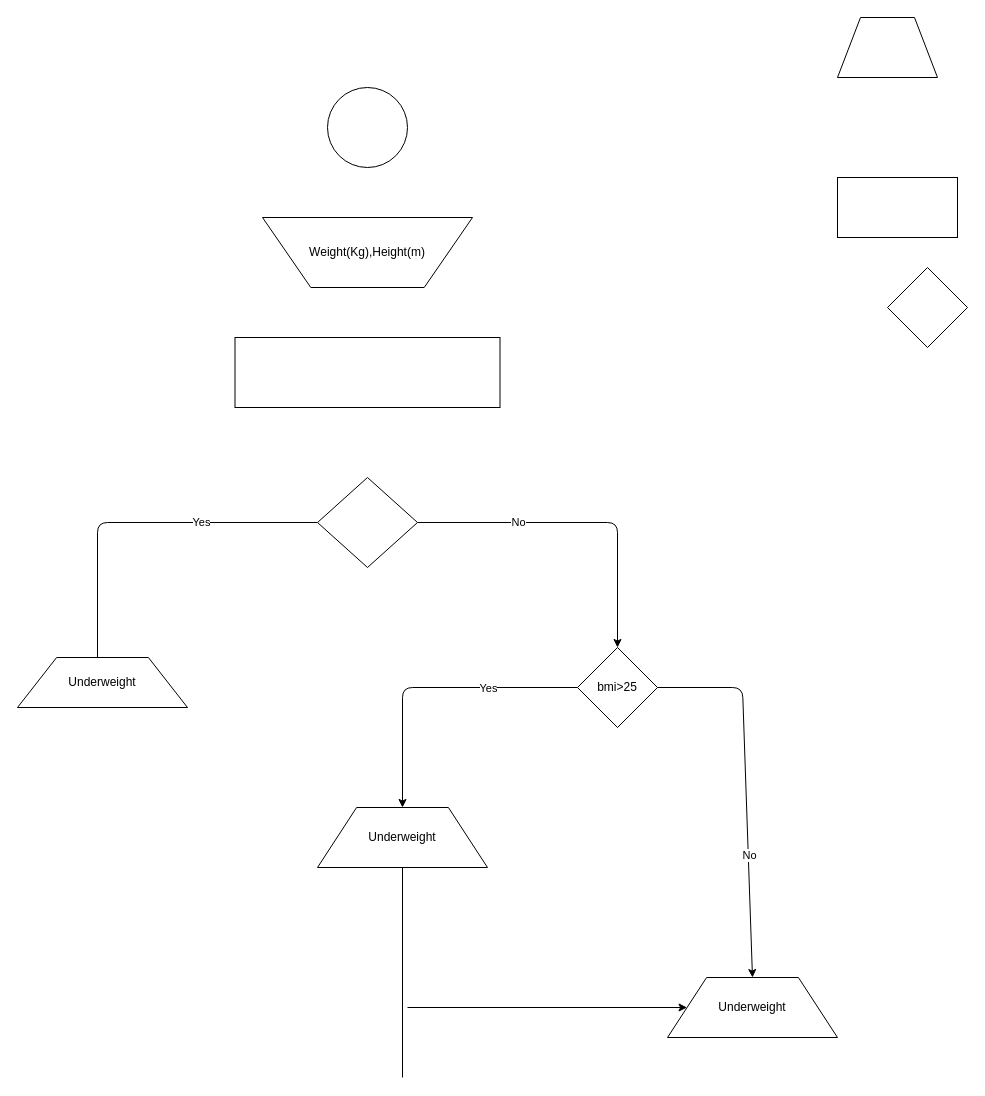
Image size: 985x1096. Some labels were removed from this diagram. Here are the shapes that lost their labels. From the top down, the centre of each, then its label:
point (367, 127): Start
point (367, 372): BMI = Weight(Kg) / (Height * Height (m))
point (367, 522): bmi < 18.5
